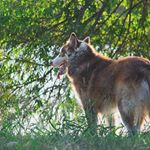puppy: (46, 28, 150, 139)
